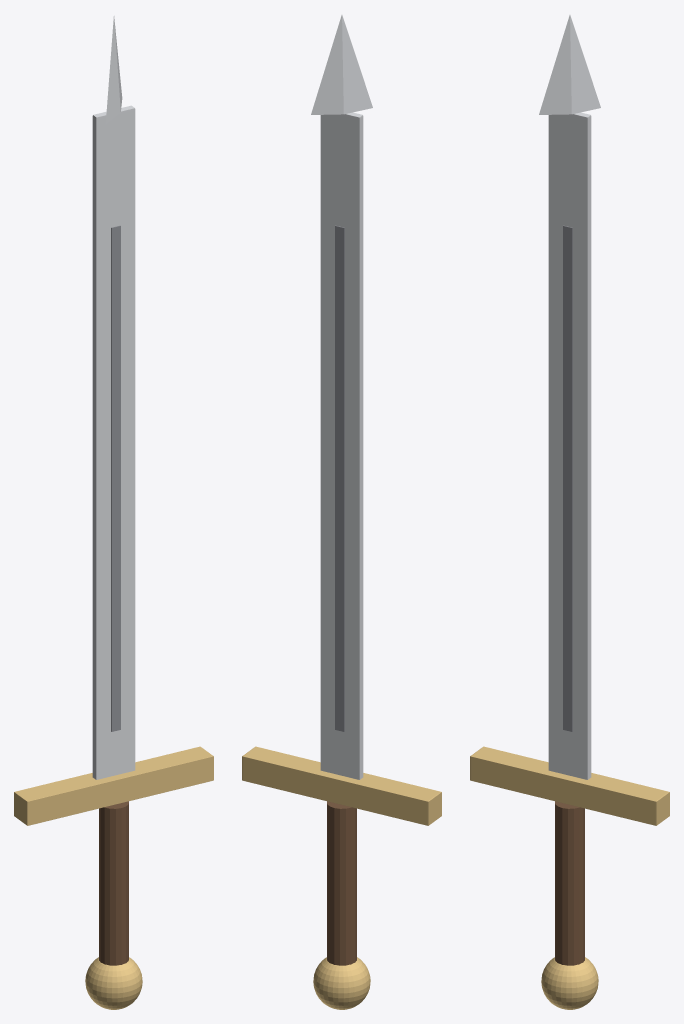
Rendered from longsword.glb.
The picture shows the model from 3 angles, left to right: view 1: azimuth 30°, elevation 25°; view 2: azimuth 150°, elevation 25°; view 3: azimuth 330°, elevation 25°; orthographic projection.
Parts seen in each view (by area): view 1: Sphere; view 2: Sphere; view 3: Sphere.
Boxes of the visible parts, x1=… form: Sphere: x1=14, y1=16, x2=213, y2=1009; Sphere: x1=242, y1=15, x2=441, y2=1009; Sphere: x1=470, y1=15, x2=669, y2=1009.
Size of the model in its own units: 0.24 by 1.22 by 0.064.
